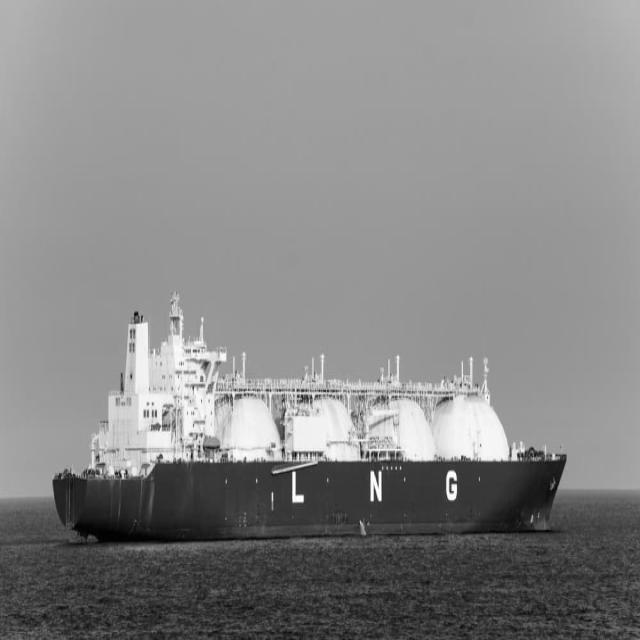LNG: (51, 282, 568, 547)
